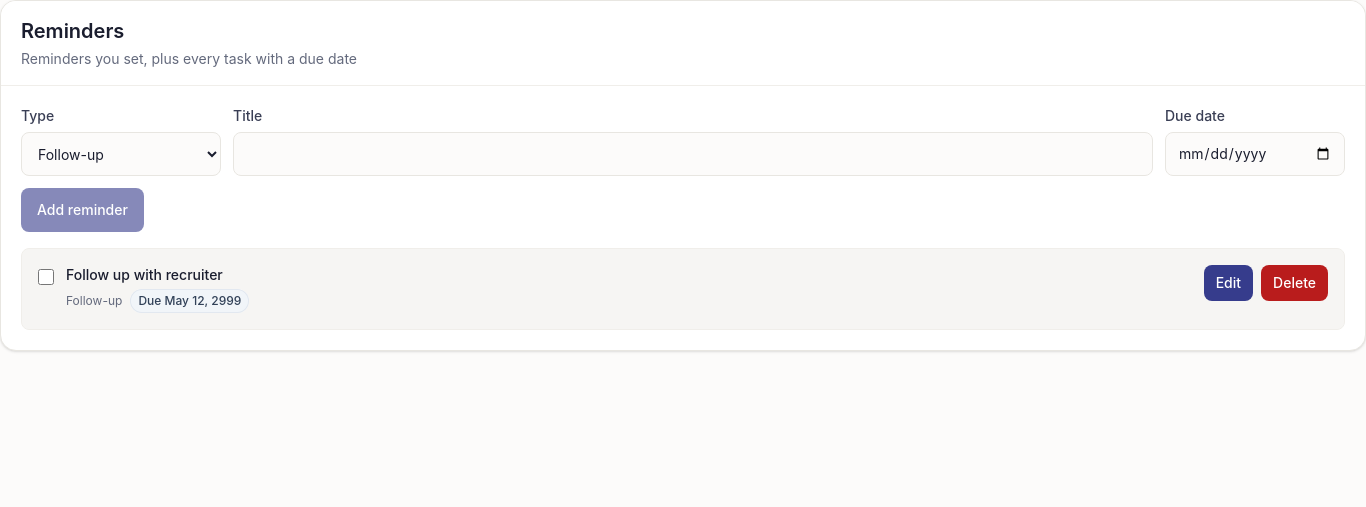
Test case: JobDetailRemindersPanel › keeps the list and offers a retry when a refresh after a write fails
The image size is (1366, 507).
Click the checkbox named "Complete Follow up with recruiter".
click(46, 277)  # box [38, 269, 54, 285]
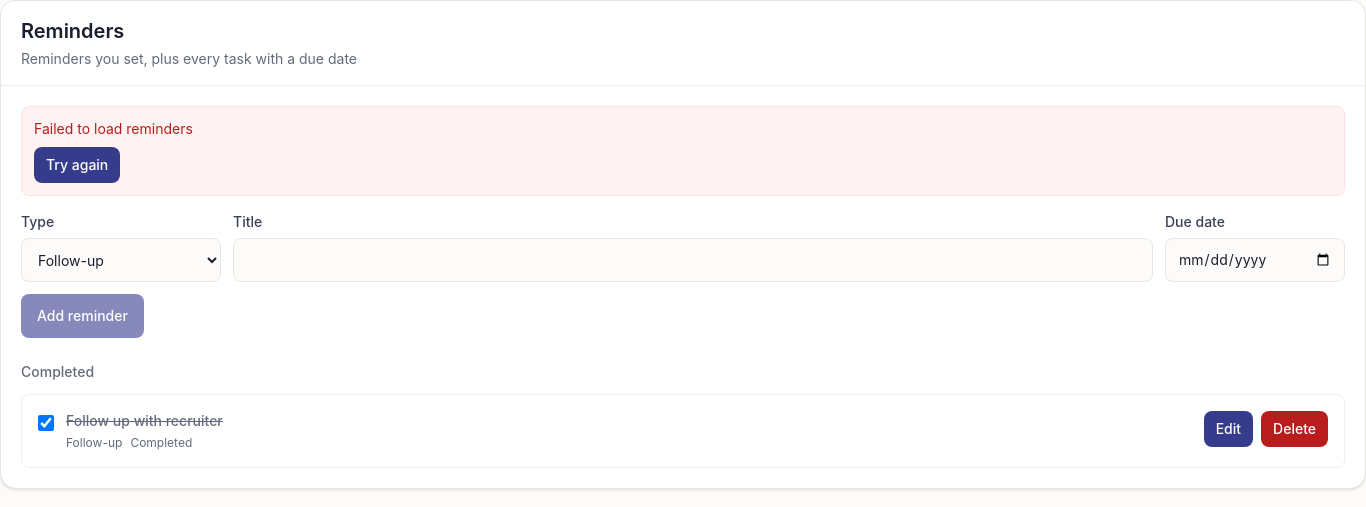
Expected: the message shows "Failed to load reminders", [34, 120, 193, 137]
Expected: the checkbox named "Complete Follow up with recruiter" is checked, [38, 415, 54, 431]
Expected: the button "Try again" is enabled, [34, 147, 120, 183]
